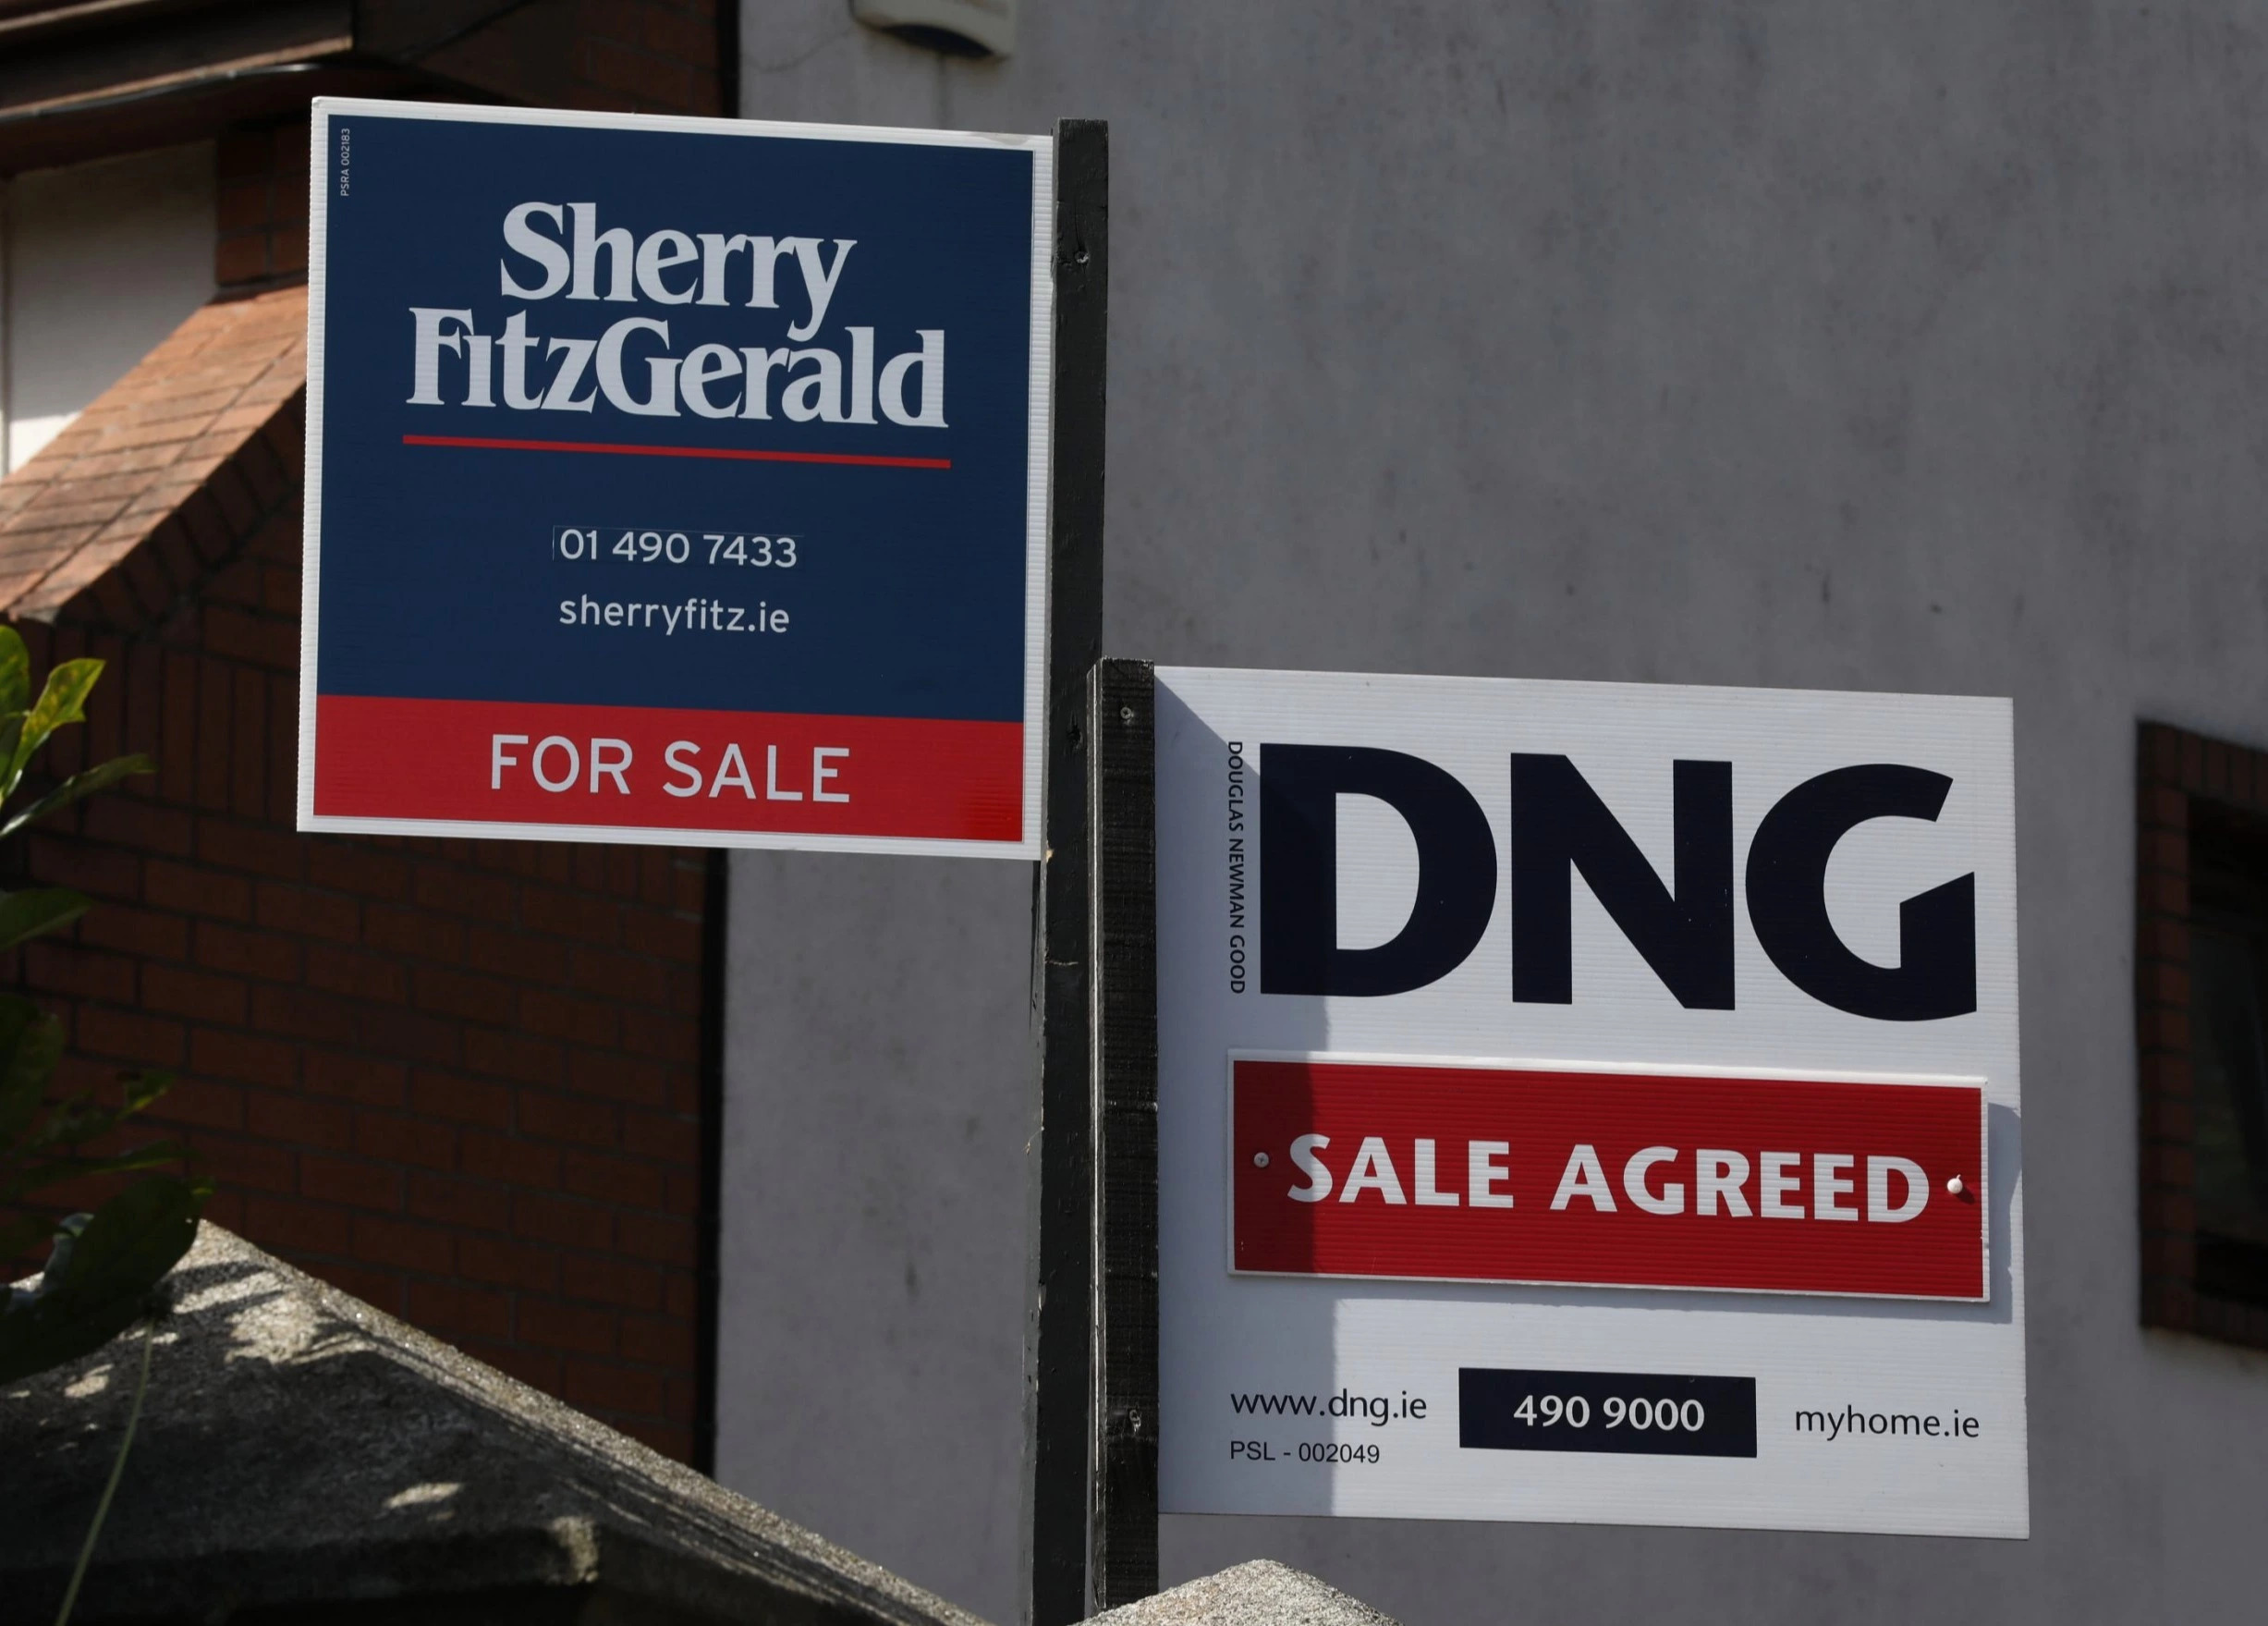property sign: (1107, 641, 2078, 1557), (259, 56, 1073, 861)
